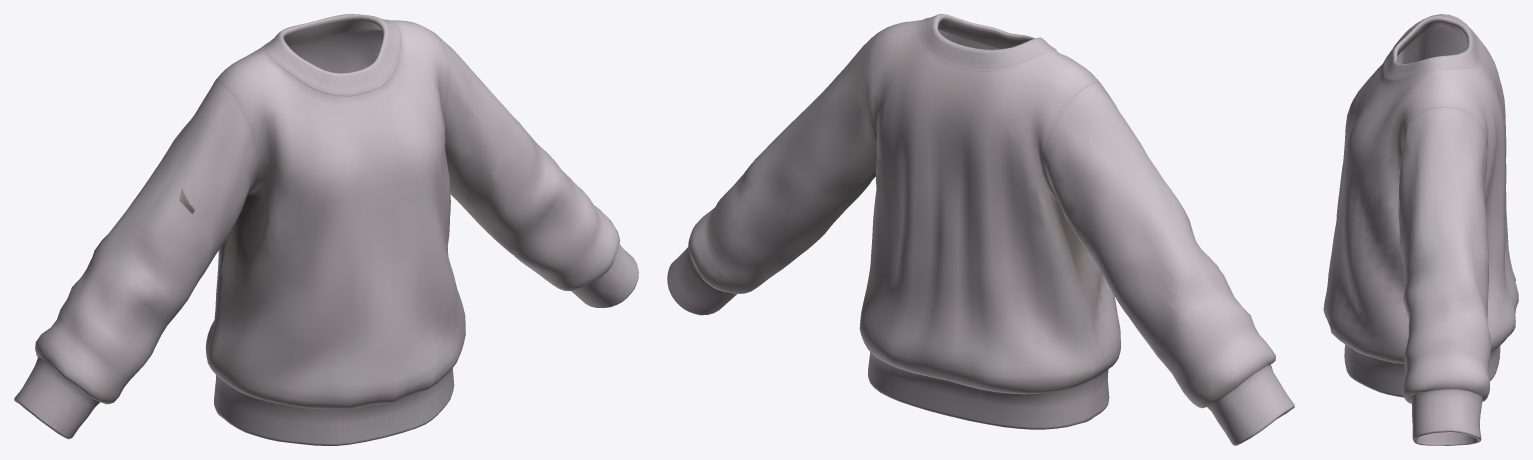
Rendered from sweatshirt.glb.
3 views of the same model, side by side, from view 1: azimuth 30°, elevation 25°; view 2: azimuth 150°, elevation 25°; view 3: azimuth 270°, elevation 25° (orthographic). The views are drawn at different scales.
Parts seen in each view (by area): view 1: tripo_node_1bdc91c0-36cb-48d1-83d8-1bddabfe5328; view 2: tripo_node_1bdc91c0-36cb-48d1-83d8-1bddabfe5328; view 3: tripo_node_1bdc91c0-36cb-48d1-83d8-1bddabfe5328.
Boxes of the visible parts, <box> form: tripo_node_1bdc91c0-36cb-48d1-83d8-1bddabfe5328: <box>14,14,638,445</box>; tripo_node_1bdc91c0-36cb-48d1-83d8-1bddabfe5328: <box>667,14,1294,445</box>; tripo_node_1bdc91c0-36cb-48d1-83d8-1bddabfe5328: <box>1323,14,1518,445</box>.
Size of the model in its own units: 0.9995 by 0.5796 by 0.3179.
1 material, 1 textured.
